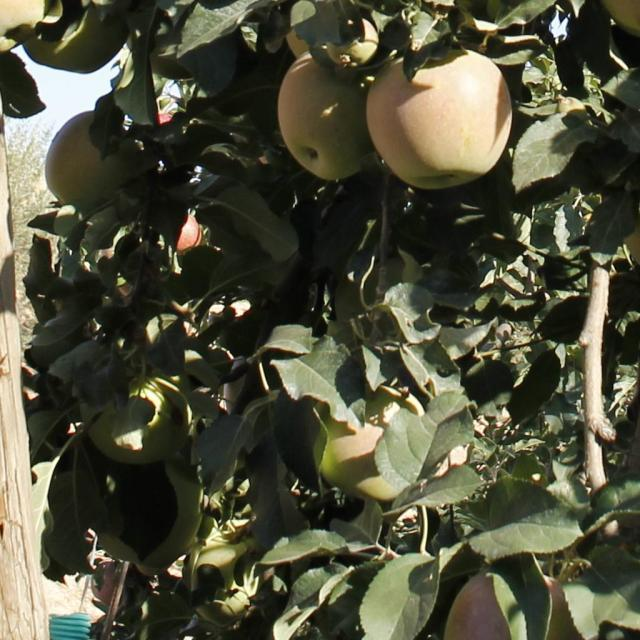apple: (366, 52, 512, 187), (315, 386, 461, 501), (277, 52, 373, 180), (93, 461, 200, 573), (45, 111, 141, 209), (88, 378, 187, 464), (24, 2, 128, 73)
